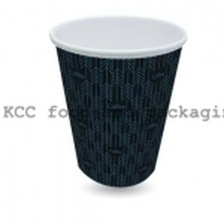paper_cup: (43, 9, 191, 194)
